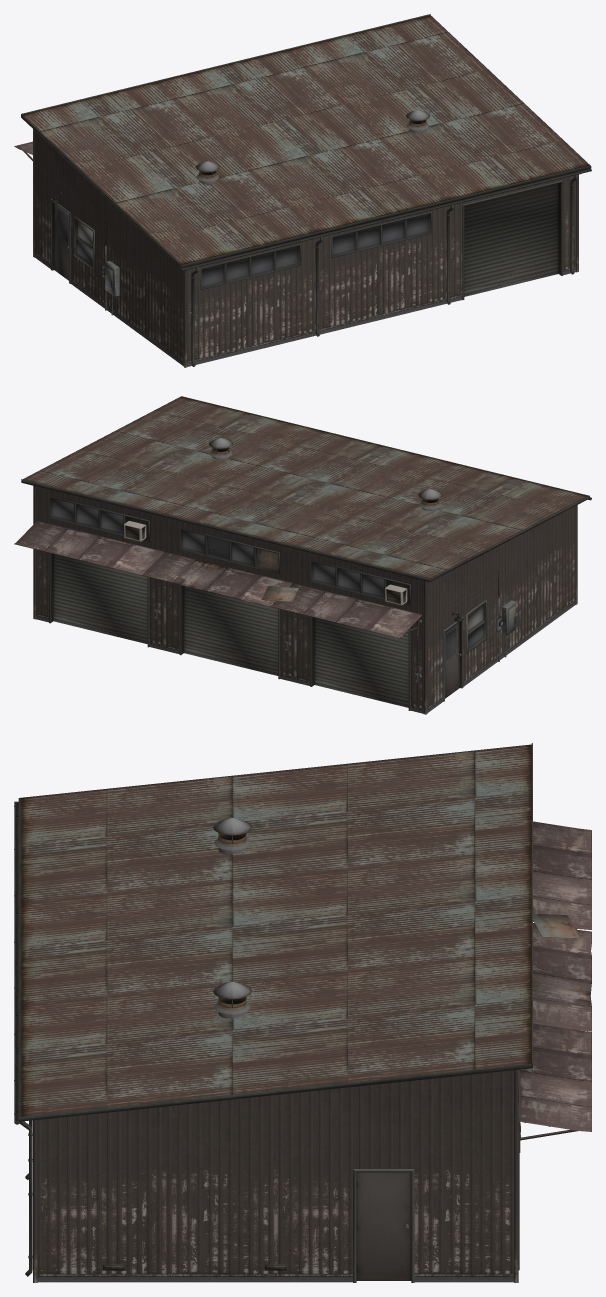
Rendered from warehouse.obj.
3 renders of one model, top to bottom at view 1: azimuth 30°, elevation 25°; view 2: azimuth 150°, elevation 25°; view 3: azimuth 270°, elevation 25°, orthographic. The views are drawn at different scales.
Visible parts, largest first — view 1: warehouse; view 2: warehouse; view 3: warehouse.
Boxes of the visible parts, left/top/right/bottom form: warehouse: left=14, top=14, right=591, bottom=367; warehouse: left=14, top=396, right=591, bottom=714; warehouse: left=14, top=743, right=591, bottom=1282.
Bounding box in the file's own units: 254 × 83.71 × 194.
Materials: 1 (1 with a texture image).
